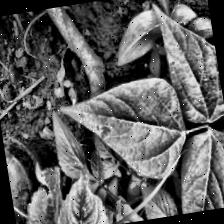ALS: (55, 77, 196, 192)
